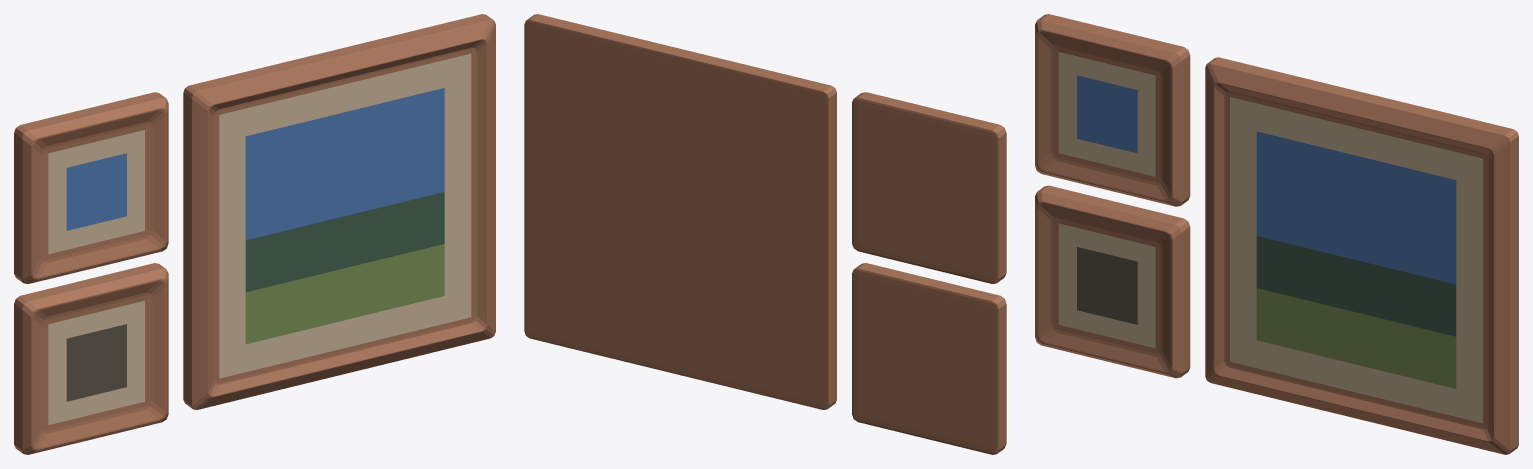
Rendered from frames_above_shoecabinet_entrance.fbx.
The picture shows the model from 3 angles, left to right: view 1: azimuth 30°, elevation 25°; view 2: azimuth 150°, elevation 25°; view 3: azimuth 330°, elevation 25°; orthographic projection.
Parts seen in each view (by area): view 1: frames_above_shoecabinet_entrance, Cube.046, Cube.051, Cube.033, Cube.047, Cube.052; view 2: frames_above_shoecabinet_entrance; view 3: frames_above_shoecabinet_entrance, Cube.046, Cube.051, Cube.047, Cube.033, Cube.052.
Part boxes in pixels (x1,y1,x2,y2): frames_above_shoecabinet_entrance: (14,14,495,454); Cube.046: (48,53,471,424); Cube.051: (66,88,444,240); Cube.033: (245,192,444,292); Cube.047: (245,244,444,344); Cube.052: (66,324,126,401); frames_above_shoecabinet_entrance: (524,14,1006,454); frames_above_shoecabinet_entrance: (1035,14,1518,454); Cube.046: (1058,52,1482,423); Cube.051: (1077,75,1456,284); Cube.047: (1256,288,1456,388); Cube.033: (1256,236,1456,336); Cube.052: (1077,247,1137,324).
Size of the model in its own units: 94.57 by 61.86 by 4.33.
